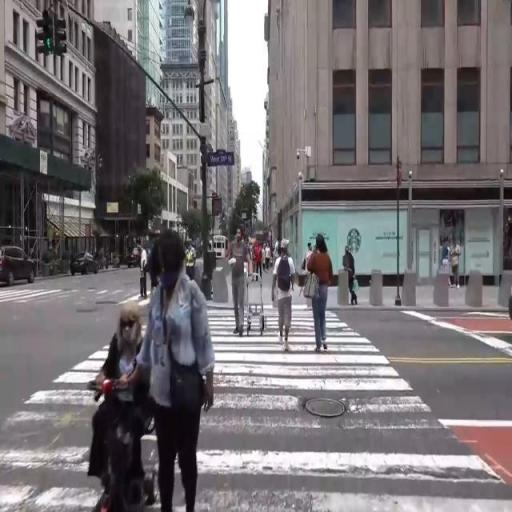person: (148, 242, 207, 512), (111, 293, 148, 487), (302, 235, 338, 363), (273, 240, 297, 347), (233, 226, 248, 344), (344, 246, 365, 306), (137, 241, 151, 291), (452, 238, 464, 291), (440, 237, 451, 289), (256, 243, 265, 278), (267, 243, 272, 278), (306, 239, 311, 268)
